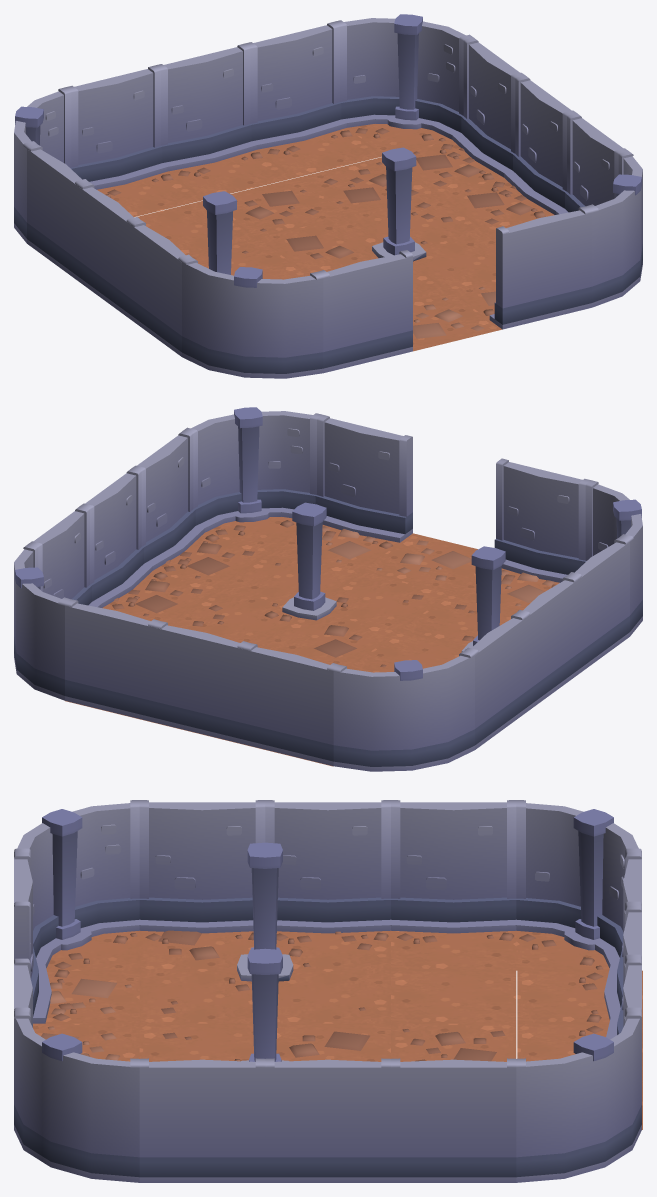
The model's file is large_room_1_opening.glb.
3 renders of one model, top to bottom at view 1: azimuth 30°, elevation 25°; view 2: azimuth 150°, elevation 25°; view 3: azimuth 270°, elevation 25°, orthographic. The views are drawn at different scales.
Parts seen in each view (by area): view 1: template-corner, template-floor-big, template-corner.003, template-wall.009, template-wall.008, template-wall.007, template-wall.010, template-wall.006, template-wall.002, template-wall.001, template-corner.001, template-wall.004 (+15 smaller); view 2: template-floor-big, template-corner.001, template-corner.002, template-wall.007, template-wall.006, template-wall.010, template-wall.008, template-wall.009, template-floor-big.001, template-wall, template-wall.001, template-corner (+10 smaller); view 3: template-floor-big.001, template-corner.002, template-corner.003, template-wall.003, template-corner, template-corner.001, template-wall, template-wall.004, template-wall.005, template-wall.002, template-wall.001, template-floor-big (+12 smaller).
Boxes of the visible parts, x1,y1,x2,y2 form: template-corner: (334, 14, 473, 153); template-floor-big: (258, 147, 495, 300); template-corner.003: (182, 257, 323, 378); template-wall.009: (245, 22, 352, 154); template-wall.008: (155, 43, 262, 176); template-wall.007: (483, 206, 591, 329); template-wall.010: (66, 65, 173, 197); template-wall.006: (318, 250, 412, 373); template-wall.002: (440, 37, 524, 180); template-wall.001: (491, 75, 576, 218); template-corner.001: (586, 151, 642, 307); template-wall.004: (78, 182, 139, 318); template-floor-big: (169, 502, 450, 668); template-corner.001: (183, 407, 322, 549); template-corner.002: (333, 650, 474, 771); template-wall.007: (315, 415, 412, 548); template-wall.006: (494, 458, 590, 587); template-wall.010: (244, 643, 338, 766); template-wall.008: (154, 621, 248, 744); template-wall.009: (65, 599, 159, 722); template-floor-big.001: (347, 546, 519, 672); template-wall: (132, 430, 219, 571); template-wall.001: (80, 468, 167, 609); template-corner: (14, 544, 70, 700); template-floor-big.001: (139, 842, 390, 1023); template-corner.002: (516, 800, 641, 970); template-corner.003: (14, 800, 139, 970); template-wall.003: (391, 800, 516, 943); template-corner: (516, 1011, 641, 1182); template-corner.001: (14, 1011, 139, 1182); template-wall: (139, 1058, 265, 1182); template-wall.004: (265, 800, 390, 943); template-wall.005: (139, 800, 265, 943); template-wall.002: (391, 1058, 516, 1182); template-wall.001: (265, 1058, 390, 1182); template-floor-big: (139, 948, 390, 1061).
Bounding box in the file's own units: 20 × 4.23 × 20.03.
6 materials, 6 textured.
